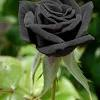rose: (17, 1, 100, 58)
